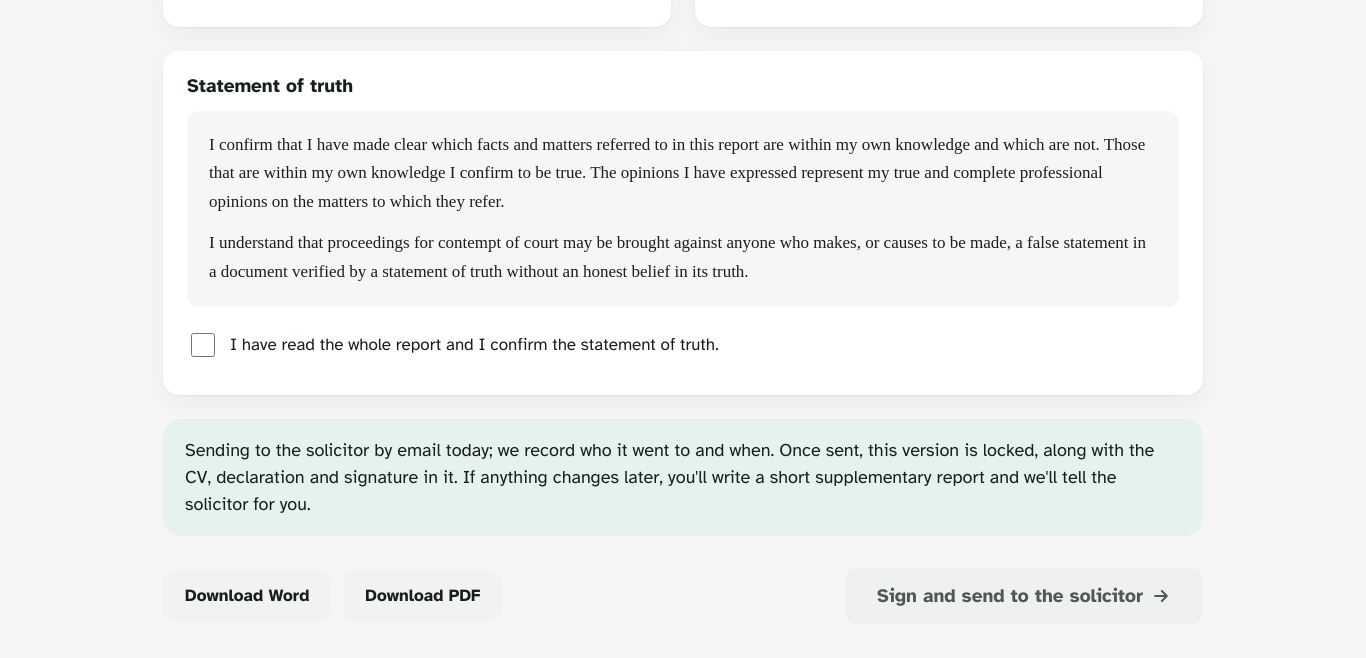
a refused signing (final_check_failed) is explained in plain words
(page scrolled)
Click the checkbox labelled "I have read the whole report and I confirm the ": (203, 345) x1=191 y1=333 x2=215 y2=357
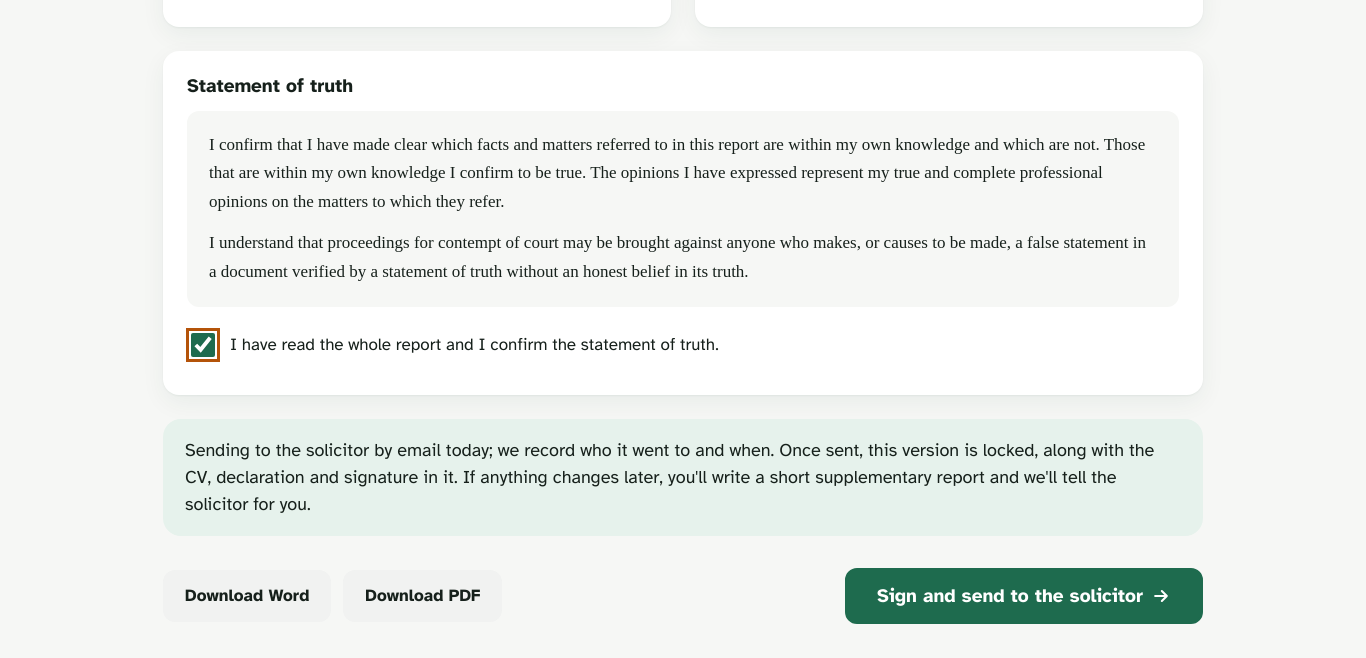
Click the button "Sign and send to the solicitor": (1024, 596) x1=845 y1=568 x2=1203 y2=624
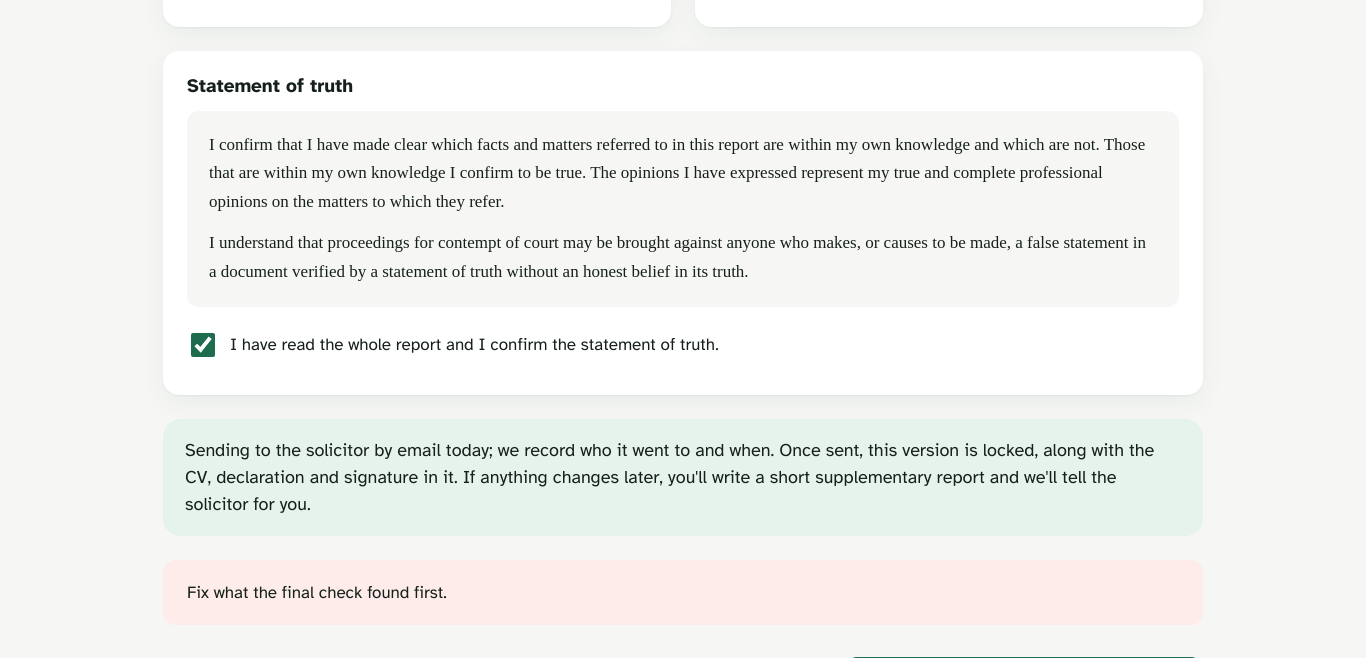
Expected: the text "Fix what the final check found first." is shown, x1=187 y1=582 x2=447 y2=603
